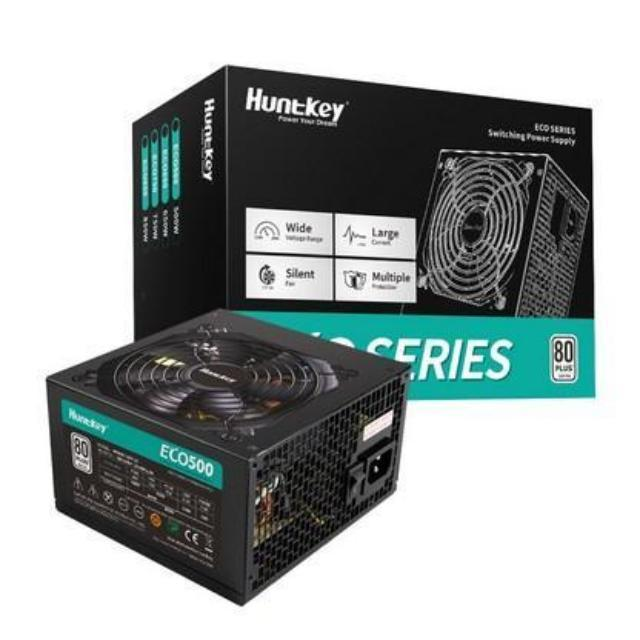PSU: (34, 305, 423, 613)
